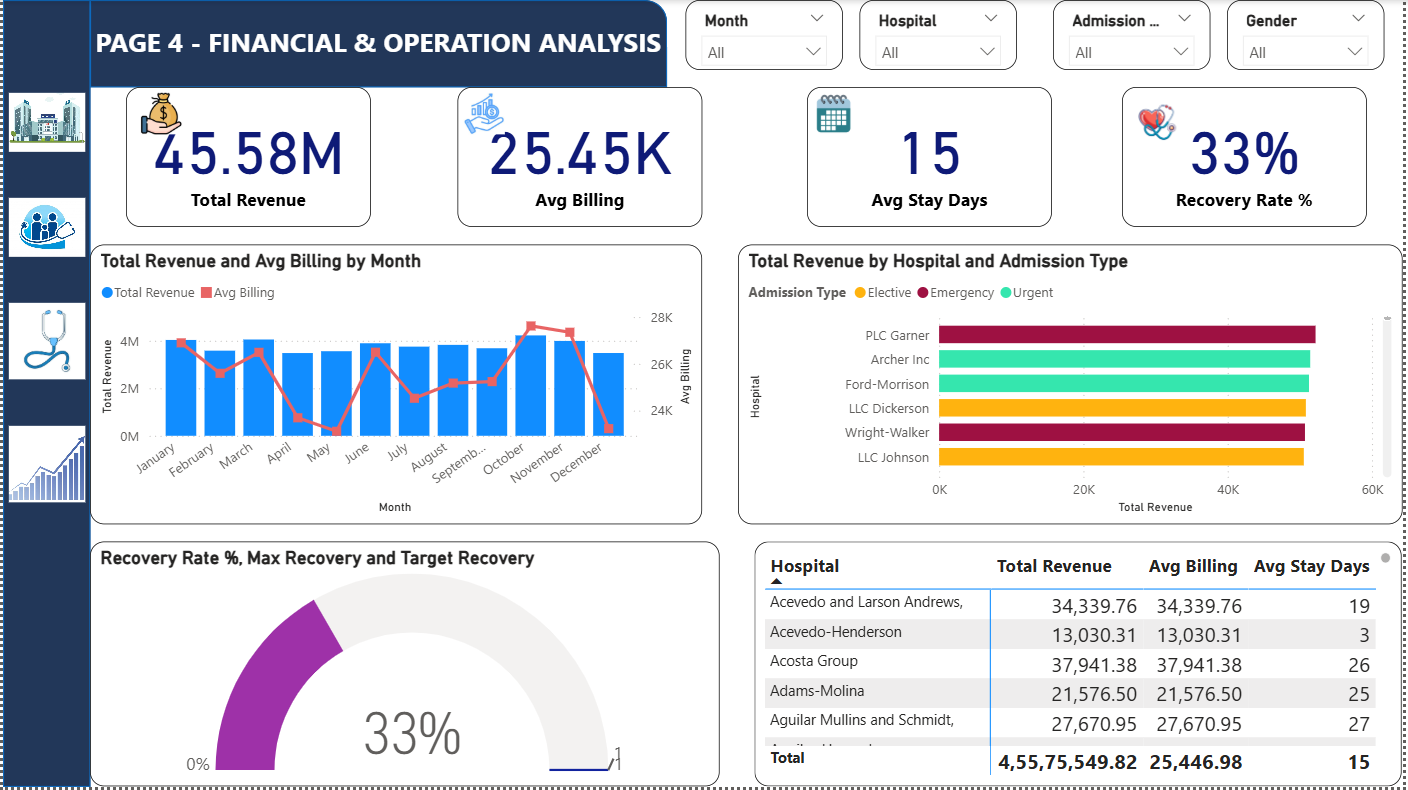

The page's visual inventory and layout, read from the dashboard file:
{"tool":"powerbi","page":{"name":"Page 4","canvas":[1280,720],"ordinal":3},"visuals":[{"type":"shape","box":[0,0,80,720],"z":0},{"type":"shape","box":[80,0,528,80],"z":1000},{"type":"card","fields":{"Values":["healthcare_dataset.Total Revenue"]},"box":[112,80,224,128],"z":2000},{"type":"card","fields":{"Values":["healthcare_dataset.Avg Billing"]},"box":[416,80,224,128],"z":3000},{"type":"card","fields":{"Values":["healthcare_dataset.Avg Stay Days"]},"box":[736,80,224,128],"z":4000},{"type":"card","fields":{"Values":["healthcare_dataset.Recovery Rate %"]},"box":[1024,80,224,128],"z":5000},{"type":"barChart","fields":{"Series":["healthcare_dataset.Admission Type"],"Category":["healthcare_dataset.Hospital"],"Y":["healthcare_dataset.Total Revenue"]},"box":[672,224,608,256],"z":6000},{"type":"gauge","fields":{"Y":["healthcare_dataset.Recovery Rate %"],"TargetValue":["healthcare_dataset.Target Recovery"],"MaxValue":["healthcare_dataset.Max Recovery"]},"box":[80,496,576,224],"z":7000},{"type":"pivotTable","fields":{"Rows":["healthcare_dataset.Hospital"],"Values":["healthcare_dataset.Total Revenue","healthcare_dataset.Avg Billing","healthcare_dataset.Avg Stay Days"]},"box":[688,496,592,224],"z":8000},{"type":"lineClusteredColumnComboChart","fields":{"Y":["healthcare_dataset.Total Revenue"],"Y2":["healthcare_dataset.Avg Billing"],"Category":["healthcare_dataset.Month"]},"box":[80,224,560,256],"z":9000},{"type":"slicer","fields":{"Values":["healthcare_dataset.Month"]},"box":[624,0,144,64],"z":10000},{"type":"slicer","fields":{"Values":["healthcare_dataset.Hospital"]},"box":[784,0,144,64],"z":11000},{"type":"slicer","fields":{"Values":["healthcare_dataset.Admission Type"]},"box":[960,0,144,64],"z":12000},{"type":"slicer","fields":{"Values":["healthcare_dataset.Gender"]},"box":[1120,0,144,64],"z":13000},{"type":"textbox","box":[80,16,528,48],"z":14000},{"type":"image","box":[0,80,80,64],"z":14001},{"type":"image","box":[0,176,80,64],"z":14002},{"type":"image","box":[0,272,80,80],"z":14003},{"type":"image","box":[0,384,80,80],"z":14004},{"type":"image","box":[736,80,48,48],"z":14005},{"type":"image","box":[416,80,48,48],"z":14006},{"type":"image","box":[1024,80,64,64],"z":14007},{"type":"image","box":[112,80,64,48],"z":14008}]}

Visuals, with their boxes in screenshot pixels (x1, y1, x2, y2), scaled from the page's 1280x720 canvas onto the 1408x790 screenshot:
shape: bbox=[0, 0, 88, 789]
shape: bbox=[88, 0, 669, 88]
card - healthcare_dataset.Total Revenue: bbox=[123, 88, 370, 228]
card - healthcare_dataset.Avg Billing: bbox=[458, 88, 704, 228]
card - healthcare_dataset.Avg Stay Days: bbox=[810, 88, 1056, 228]
card - healthcare_dataset.Recovery Rate %: bbox=[1126, 88, 1373, 228]
barChart - healthcare_dataset.Admission Type x healthcare_dataset.Hospital: bbox=[739, 246, 1407, 527]
gauge - healthcare_dataset.Recovery Rate % x healthcare_dataset.Target Recovery: bbox=[88, 544, 722, 789]
pivotTable - healthcare_dataset.Hospital x healthcare_dataset.Total Revenue: bbox=[757, 544, 1407, 789]
lineClusteredColumnComboChart - healthcare_dataset.Total Revenue x healthcare_dataset.Avg Billing: bbox=[88, 246, 704, 527]
slicer - healthcare_dataset.Month: bbox=[686, 0, 845, 70]
slicer - healthcare_dataset.Hospital: bbox=[862, 0, 1021, 70]
slicer - healthcare_dataset.Admission Type: bbox=[1056, 0, 1214, 70]
slicer - healthcare_dataset.Gender: bbox=[1232, 0, 1390, 70]
textbox: bbox=[88, 18, 669, 70]
image: bbox=[0, 88, 88, 158]
image: bbox=[0, 193, 88, 263]
image: bbox=[0, 298, 88, 386]
image: bbox=[0, 421, 88, 509]
image: bbox=[810, 88, 862, 140]
image: bbox=[458, 88, 510, 140]
image: bbox=[1126, 88, 1197, 158]
image: bbox=[123, 88, 194, 140]
